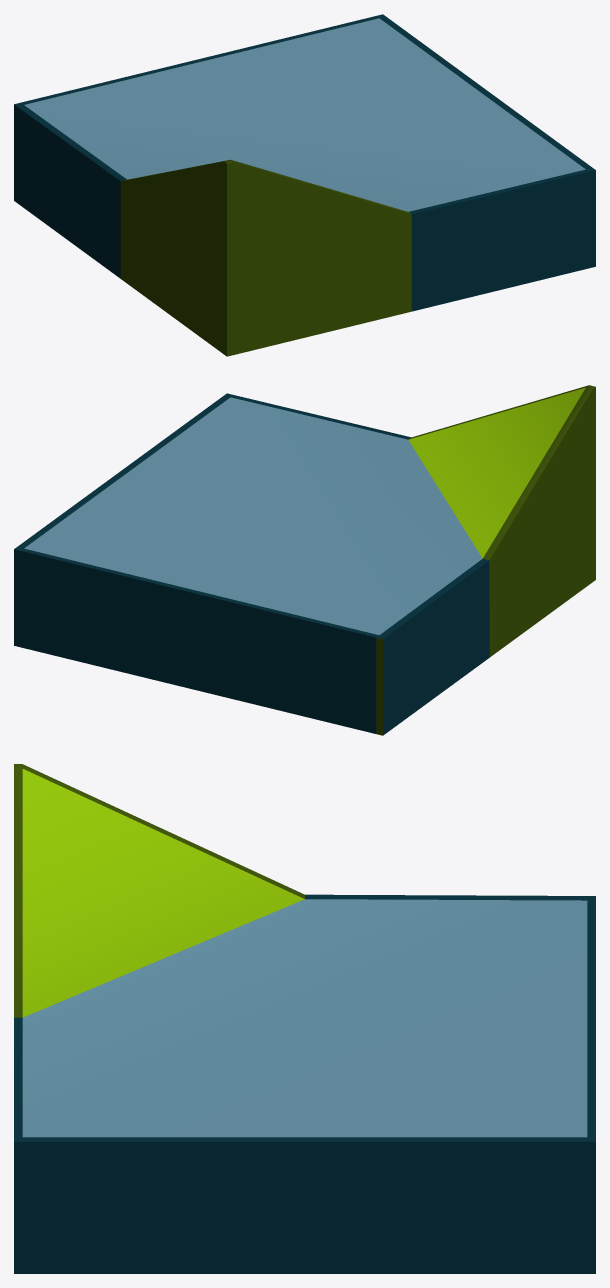
File: Agua_6.fbx
The picture shows the model from 3 angles, top to bottom: view 1: azimuth 30°, elevation 25°; view 2: azimuth 150°, elevation 25°; view 3: azimuth 270°, elevation 25°; orthographic projection. The views are drawn at different scales.
Parts seen in each view (by area): view 1: pCube6; view 2: pCube6; view 3: pCube6.
Boxes of the visible parts, x1,y1,x2,y2 form: pCube6: (14,14,595,356); pCube6: (14,385,595,735); pCube6: (14,764,595,1273).
Bounding box in the file's own units: 200 × 100 × 200.
